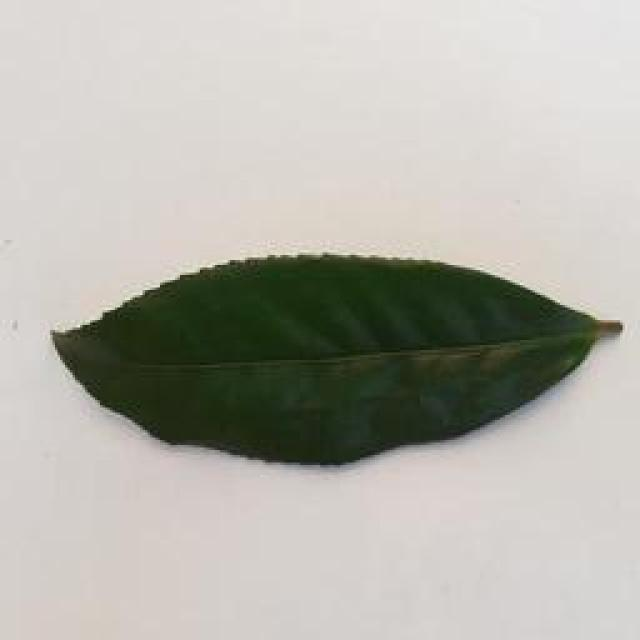Healthy: (45, 248, 640, 472)
